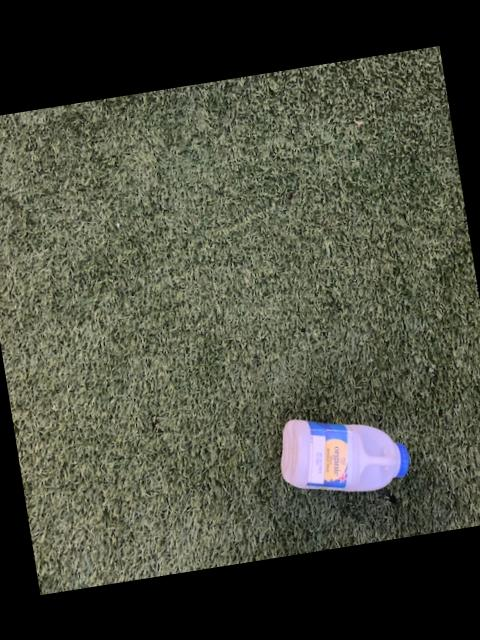plastic: (282, 418, 409, 489)
